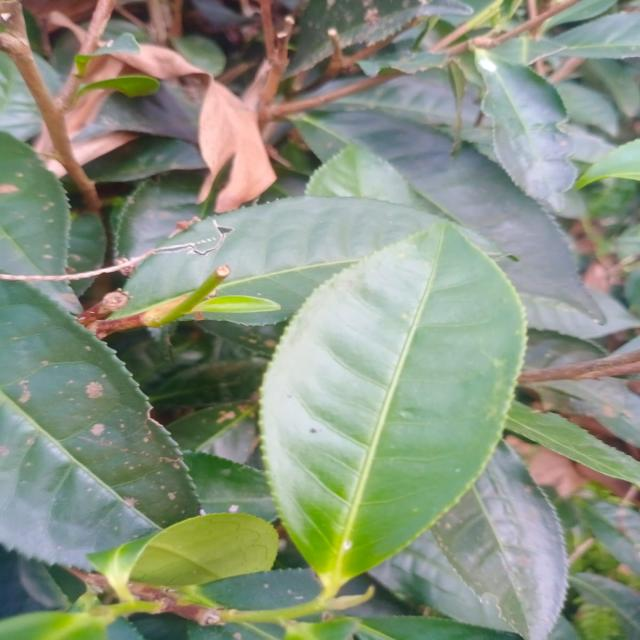Category D(7+ days, Not for Tea): (224, 203, 561, 613)
